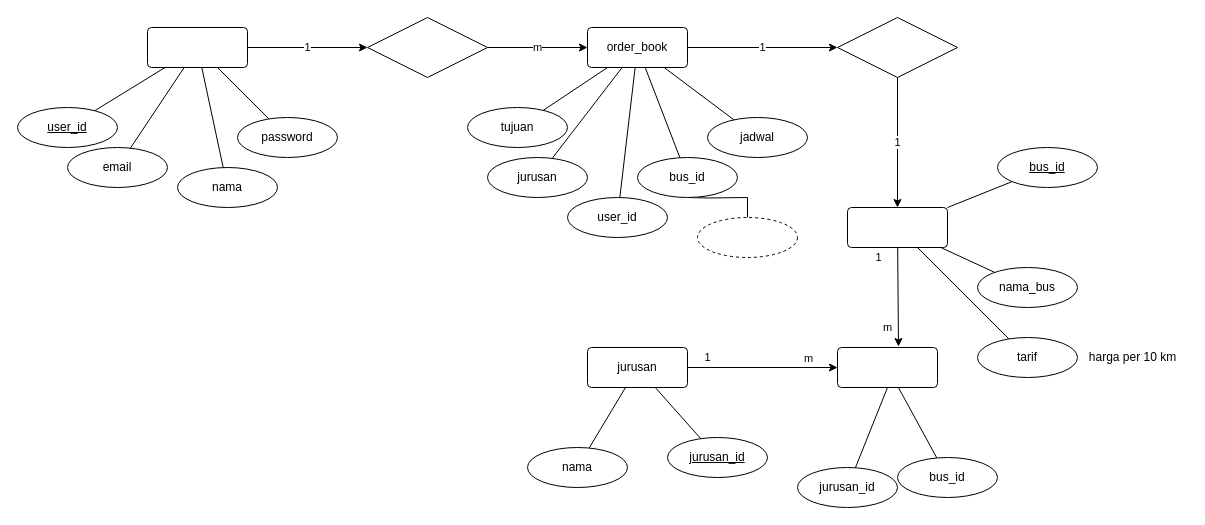
The diagram is 1205 pixels wide and 525 high, and some of its shapes have lost their labels. Here are the shapes that lost their labels. From the top down, the box of each, then its label:
(146, 26, 248, 68): Users
(366, 16, 488, 78): memesan
(836, 16, 958, 78): memiliki
(696, 216, 798, 258): harga
(846, 206, 948, 248): bus
(836, 346, 938, 388): bus_by_jurusan
